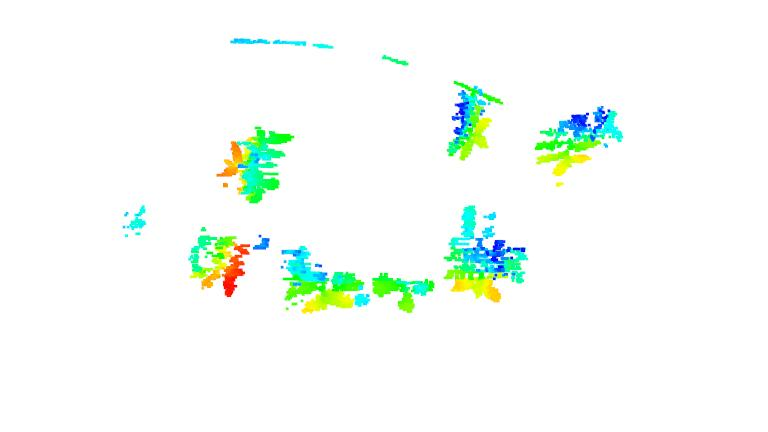chickpea: (443, 203, 527, 303), (530, 105, 631, 176), (277, 247, 367, 317), (220, 120, 291, 207), (186, 222, 248, 299), (448, 80, 495, 162), (371, 270, 438, 315)
